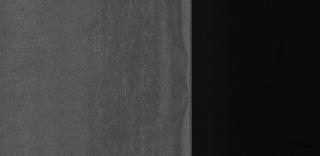silk spot: (78, 37, 142, 101)
